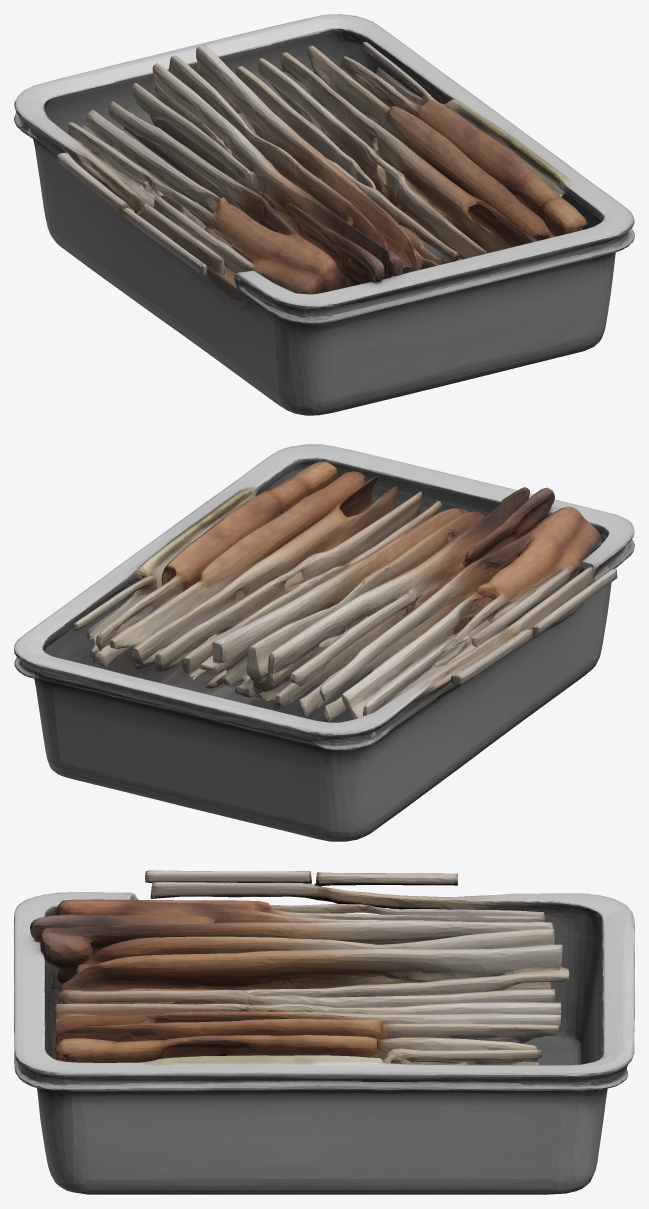
Rendered from thit_nuong.glb.
3 renders of one model, top to bottom at view 1: azimuth 30°, elevation 25°; view 2: azimuth 150°, elevation 25°; view 3: azimuth 270°, elevation 25°, orthographic. The views are drawn at different scales.
Parts seen in each view (by area): view 1: world; view 2: world; view 3: world.
Boxes of the visible parts, box(x1,y1,x2,y2) form: world: box(14, 14, 634, 415); world: box(14, 444, 634, 841); world: box(14, 870, 634, 1194).
Size of the model in its own units: 0.7468 by 0.3016 by 0.9991.
1 material, 1 textured.
